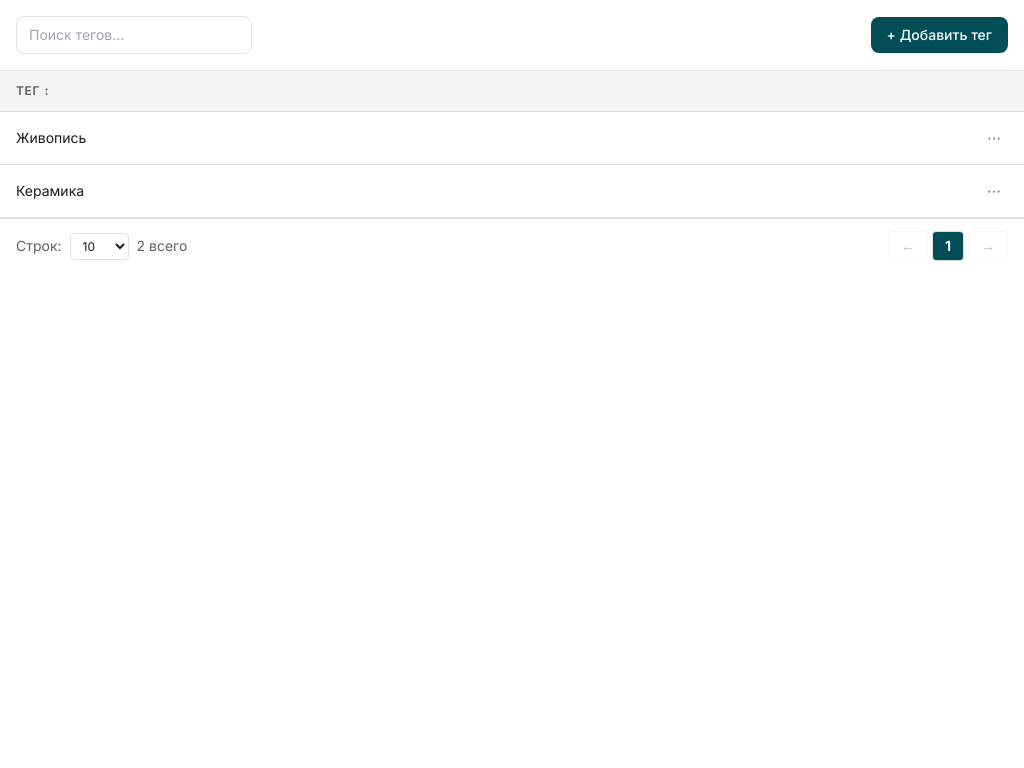
it: TagsTable delete flow (GH #318 deferred) › 409 dry-run conflict opens DeleteDialog; the tag stays in the table
The width and height of the screenshot is (1024, 768).
Expected: the text "Живопись" is shown, [0,112,964,164]
Click the button named "Действия" at x=994, y=138, box [980,124,1008,152]
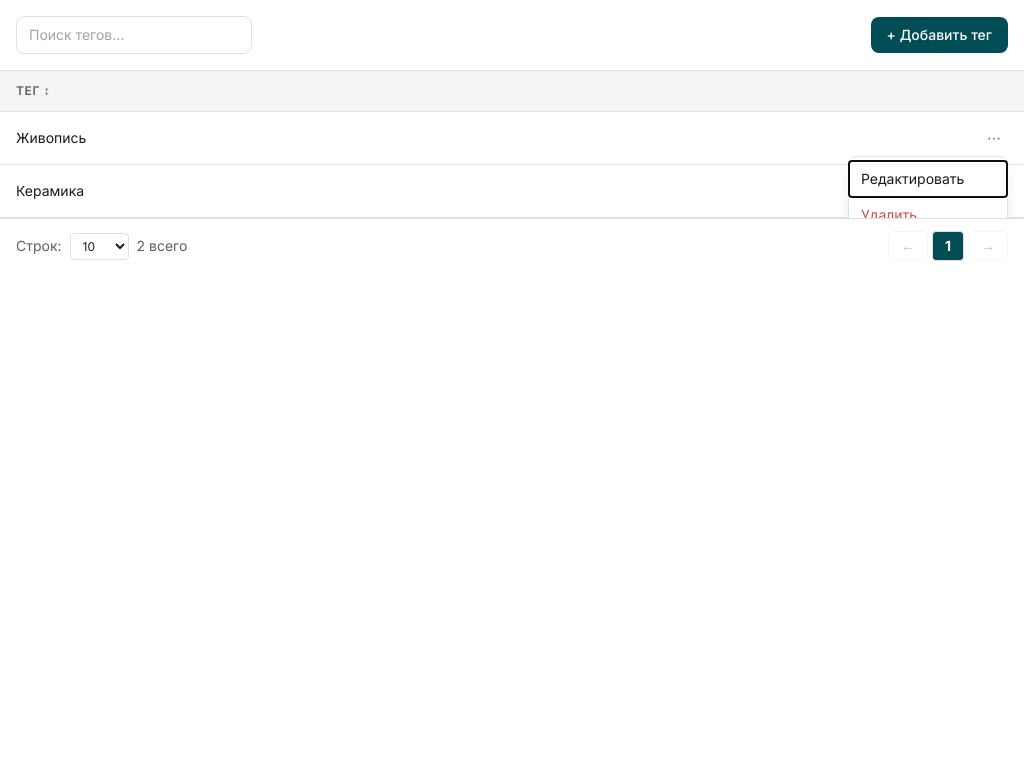
Click the menu item "Удалить" at x=928, y=215, box [849,197,1007,233]
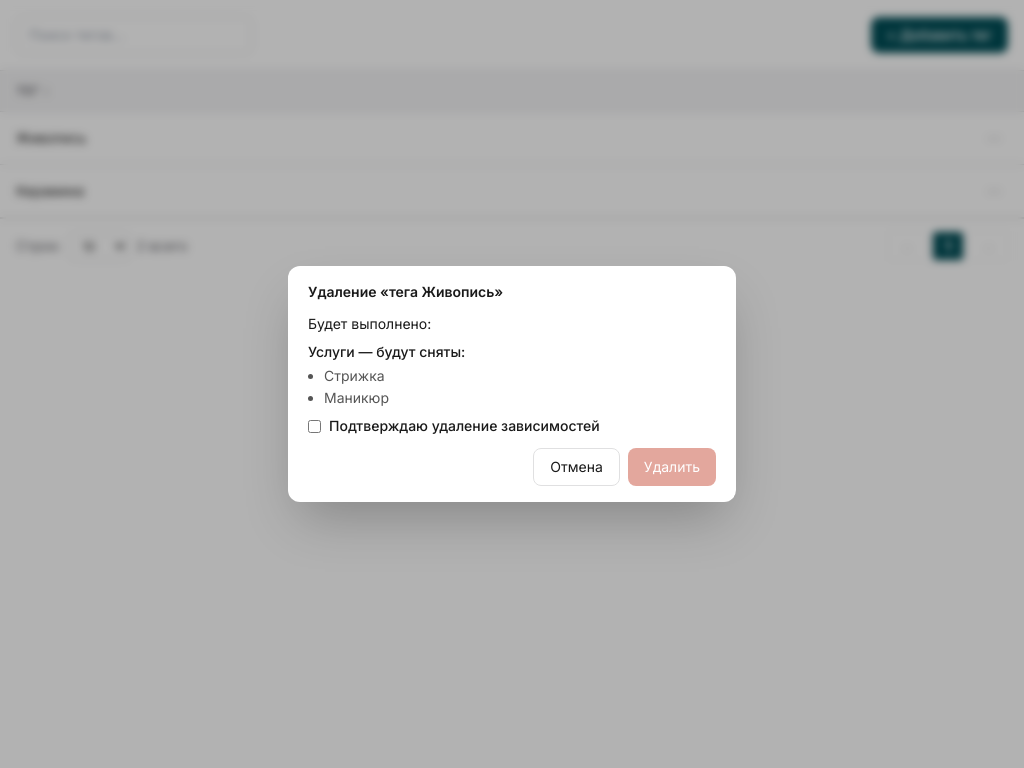
Expected: the text "Живопись" is shown, [0,112,964,164]
Expected: the element with test id "delete-dialog" is shown, [288,266,736,502]
